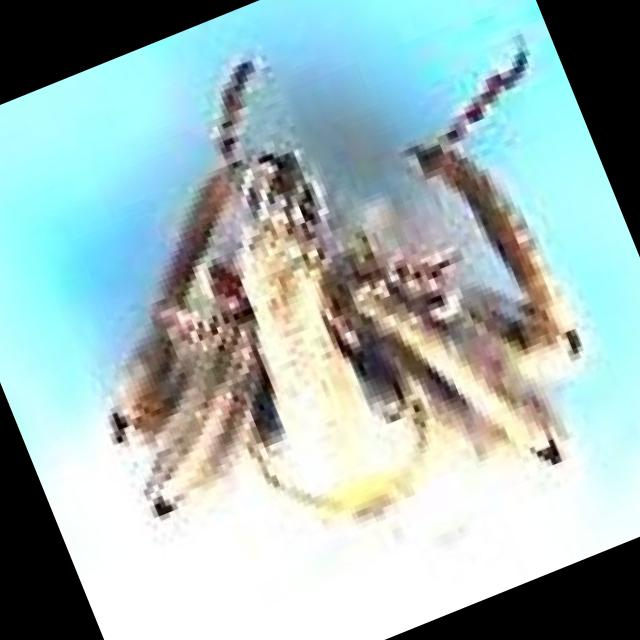rice-bug: (21, 24, 620, 612)
